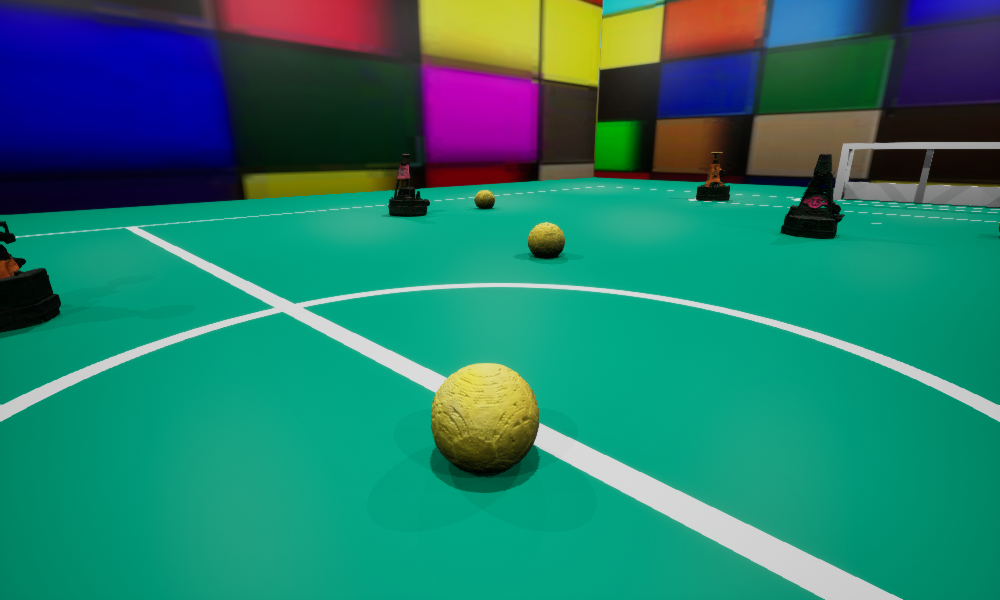b: (431, 363, 538, 473), (528, 222, 564, 257), (474, 190, 494, 208)
o: (0, 221, 60, 332), (696, 152, 729, 200)
p1: (781, 154, 844, 238)
p2: (388, 154, 429, 216)
